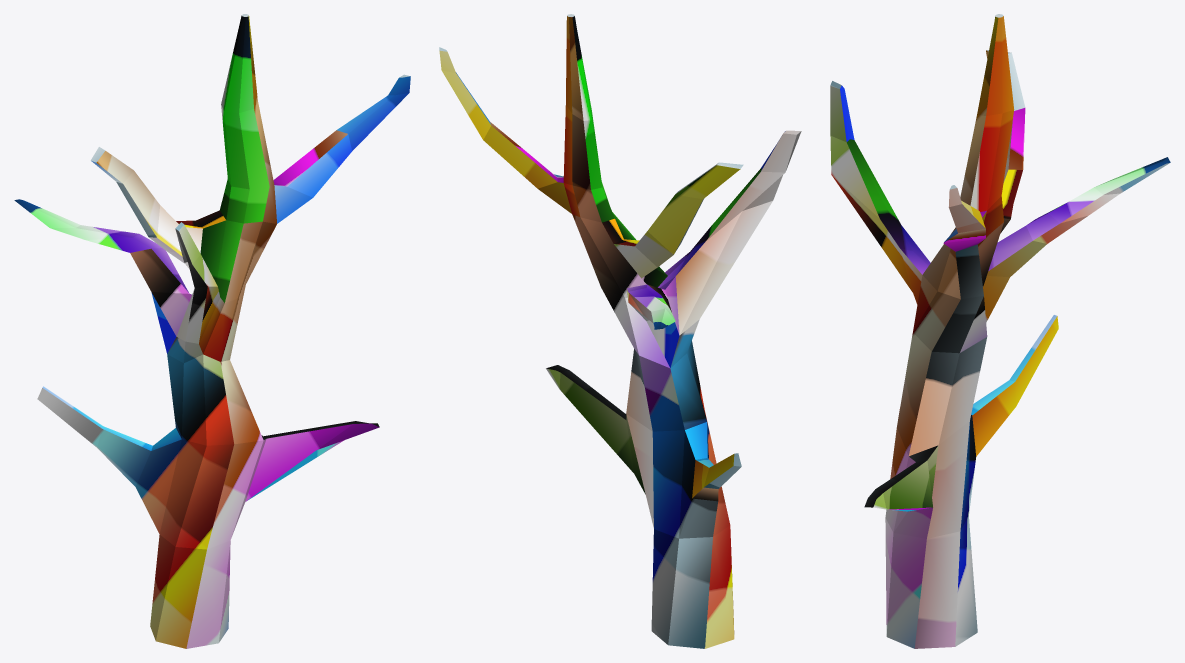
The model's file is arbuste_de_glace1.fbx.
3 renders of one model, left to right at view 1: azimuth 30°, elevation 25°; view 2: azimuth 150°, elevation 25°; view 3: azimuth 270°, elevation 25°, orthographic. The views are drawn at different scales.
Parts seen in each view (by area): view 1: Cylinder.027; view 2: Cylinder.027; view 3: Cylinder.027.
Part boxes in pixels (<box>): Cylinder.027: <box>14,14,410,648</box>; Cylinder.027: <box>439,14,801,648</box>; Cylinder.027: <box>830,14,1170,648</box>.
Size of the model in its own units: 2.01 by 3.36 by 1.56.
1 material, 1 textured.
